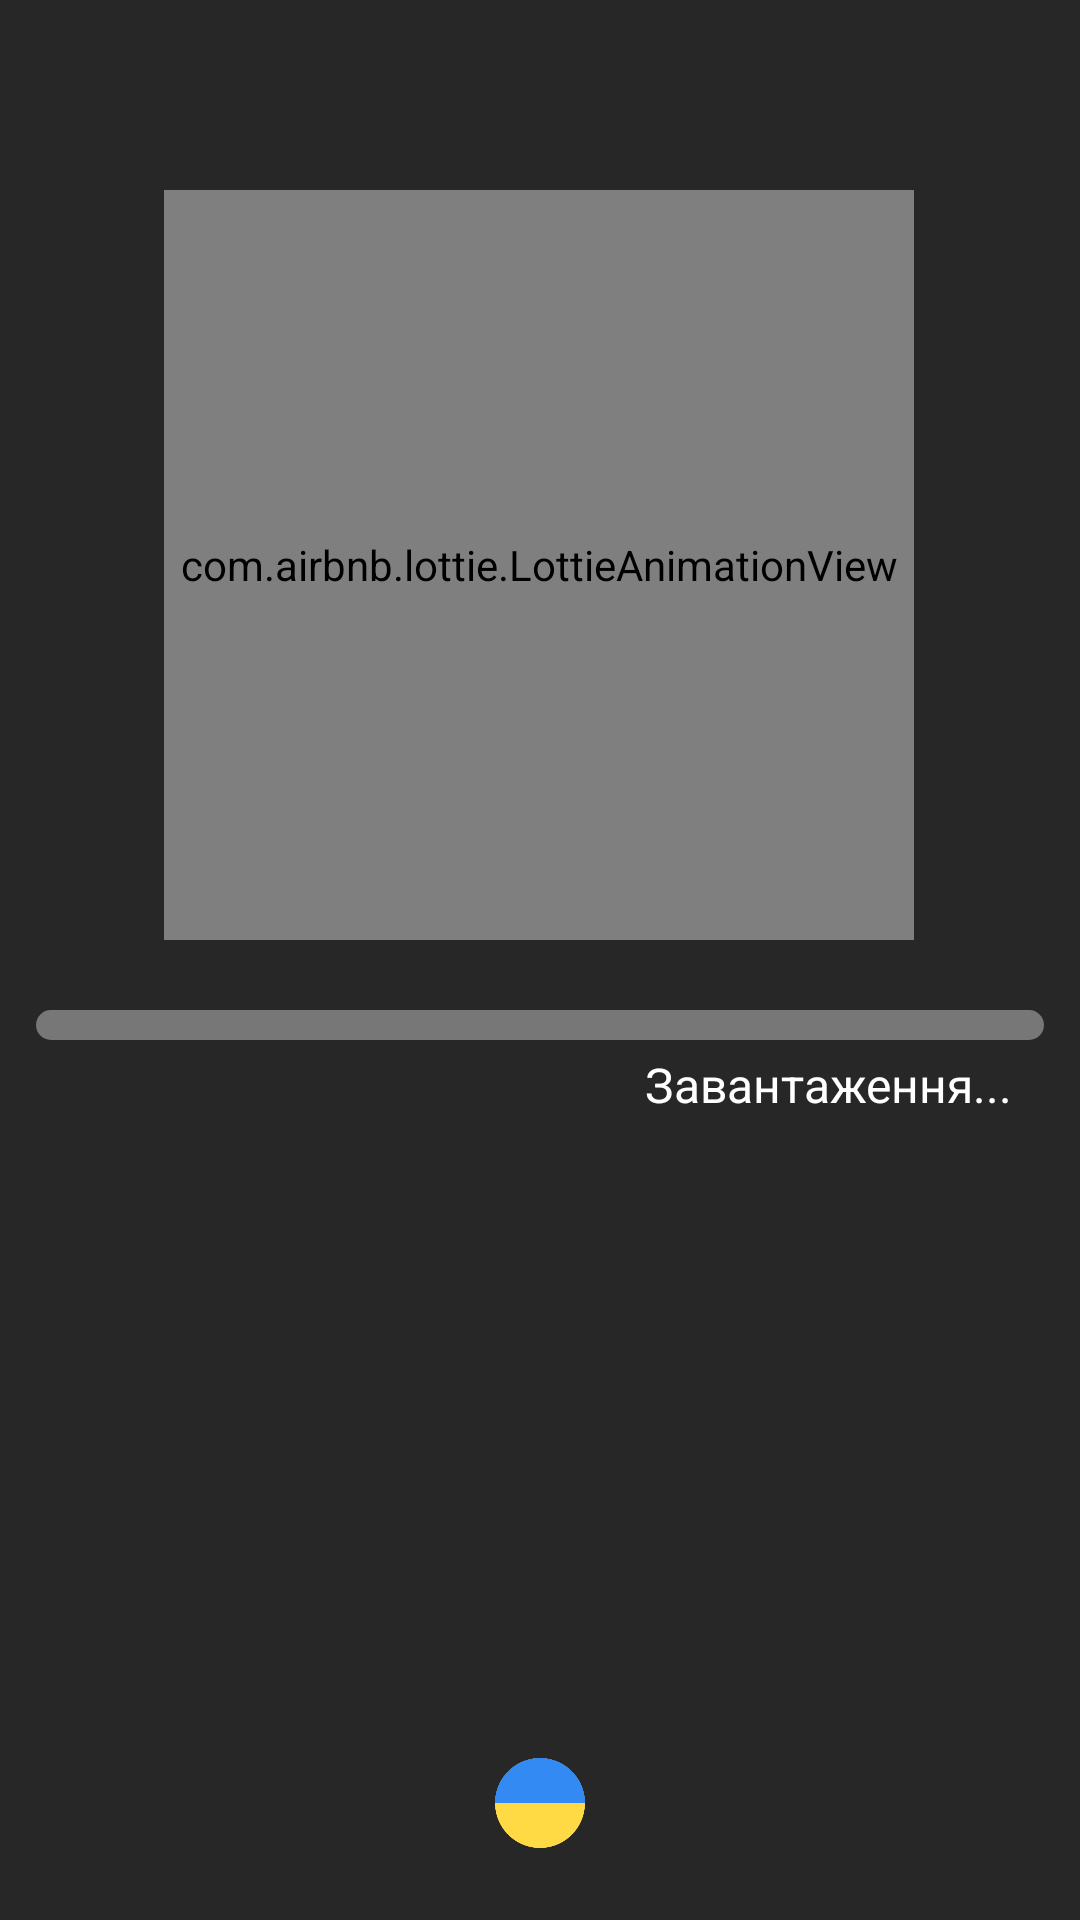

Icon click points for this 1080 x 1920 phone screenshot, format (x=x, y=y):
flag: (x=540, y=1803)
